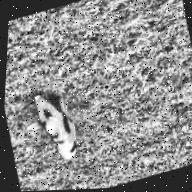boar: (18, 86, 84, 169)
